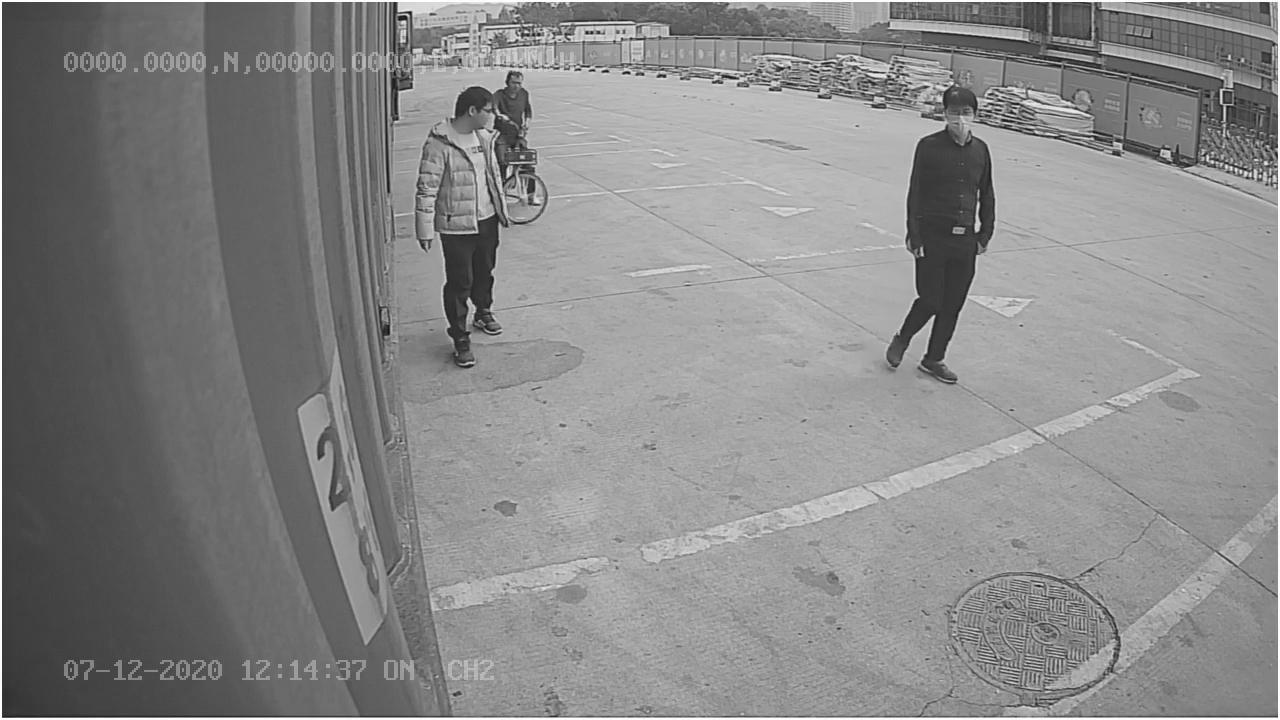person: (876, 78, 995, 386)
